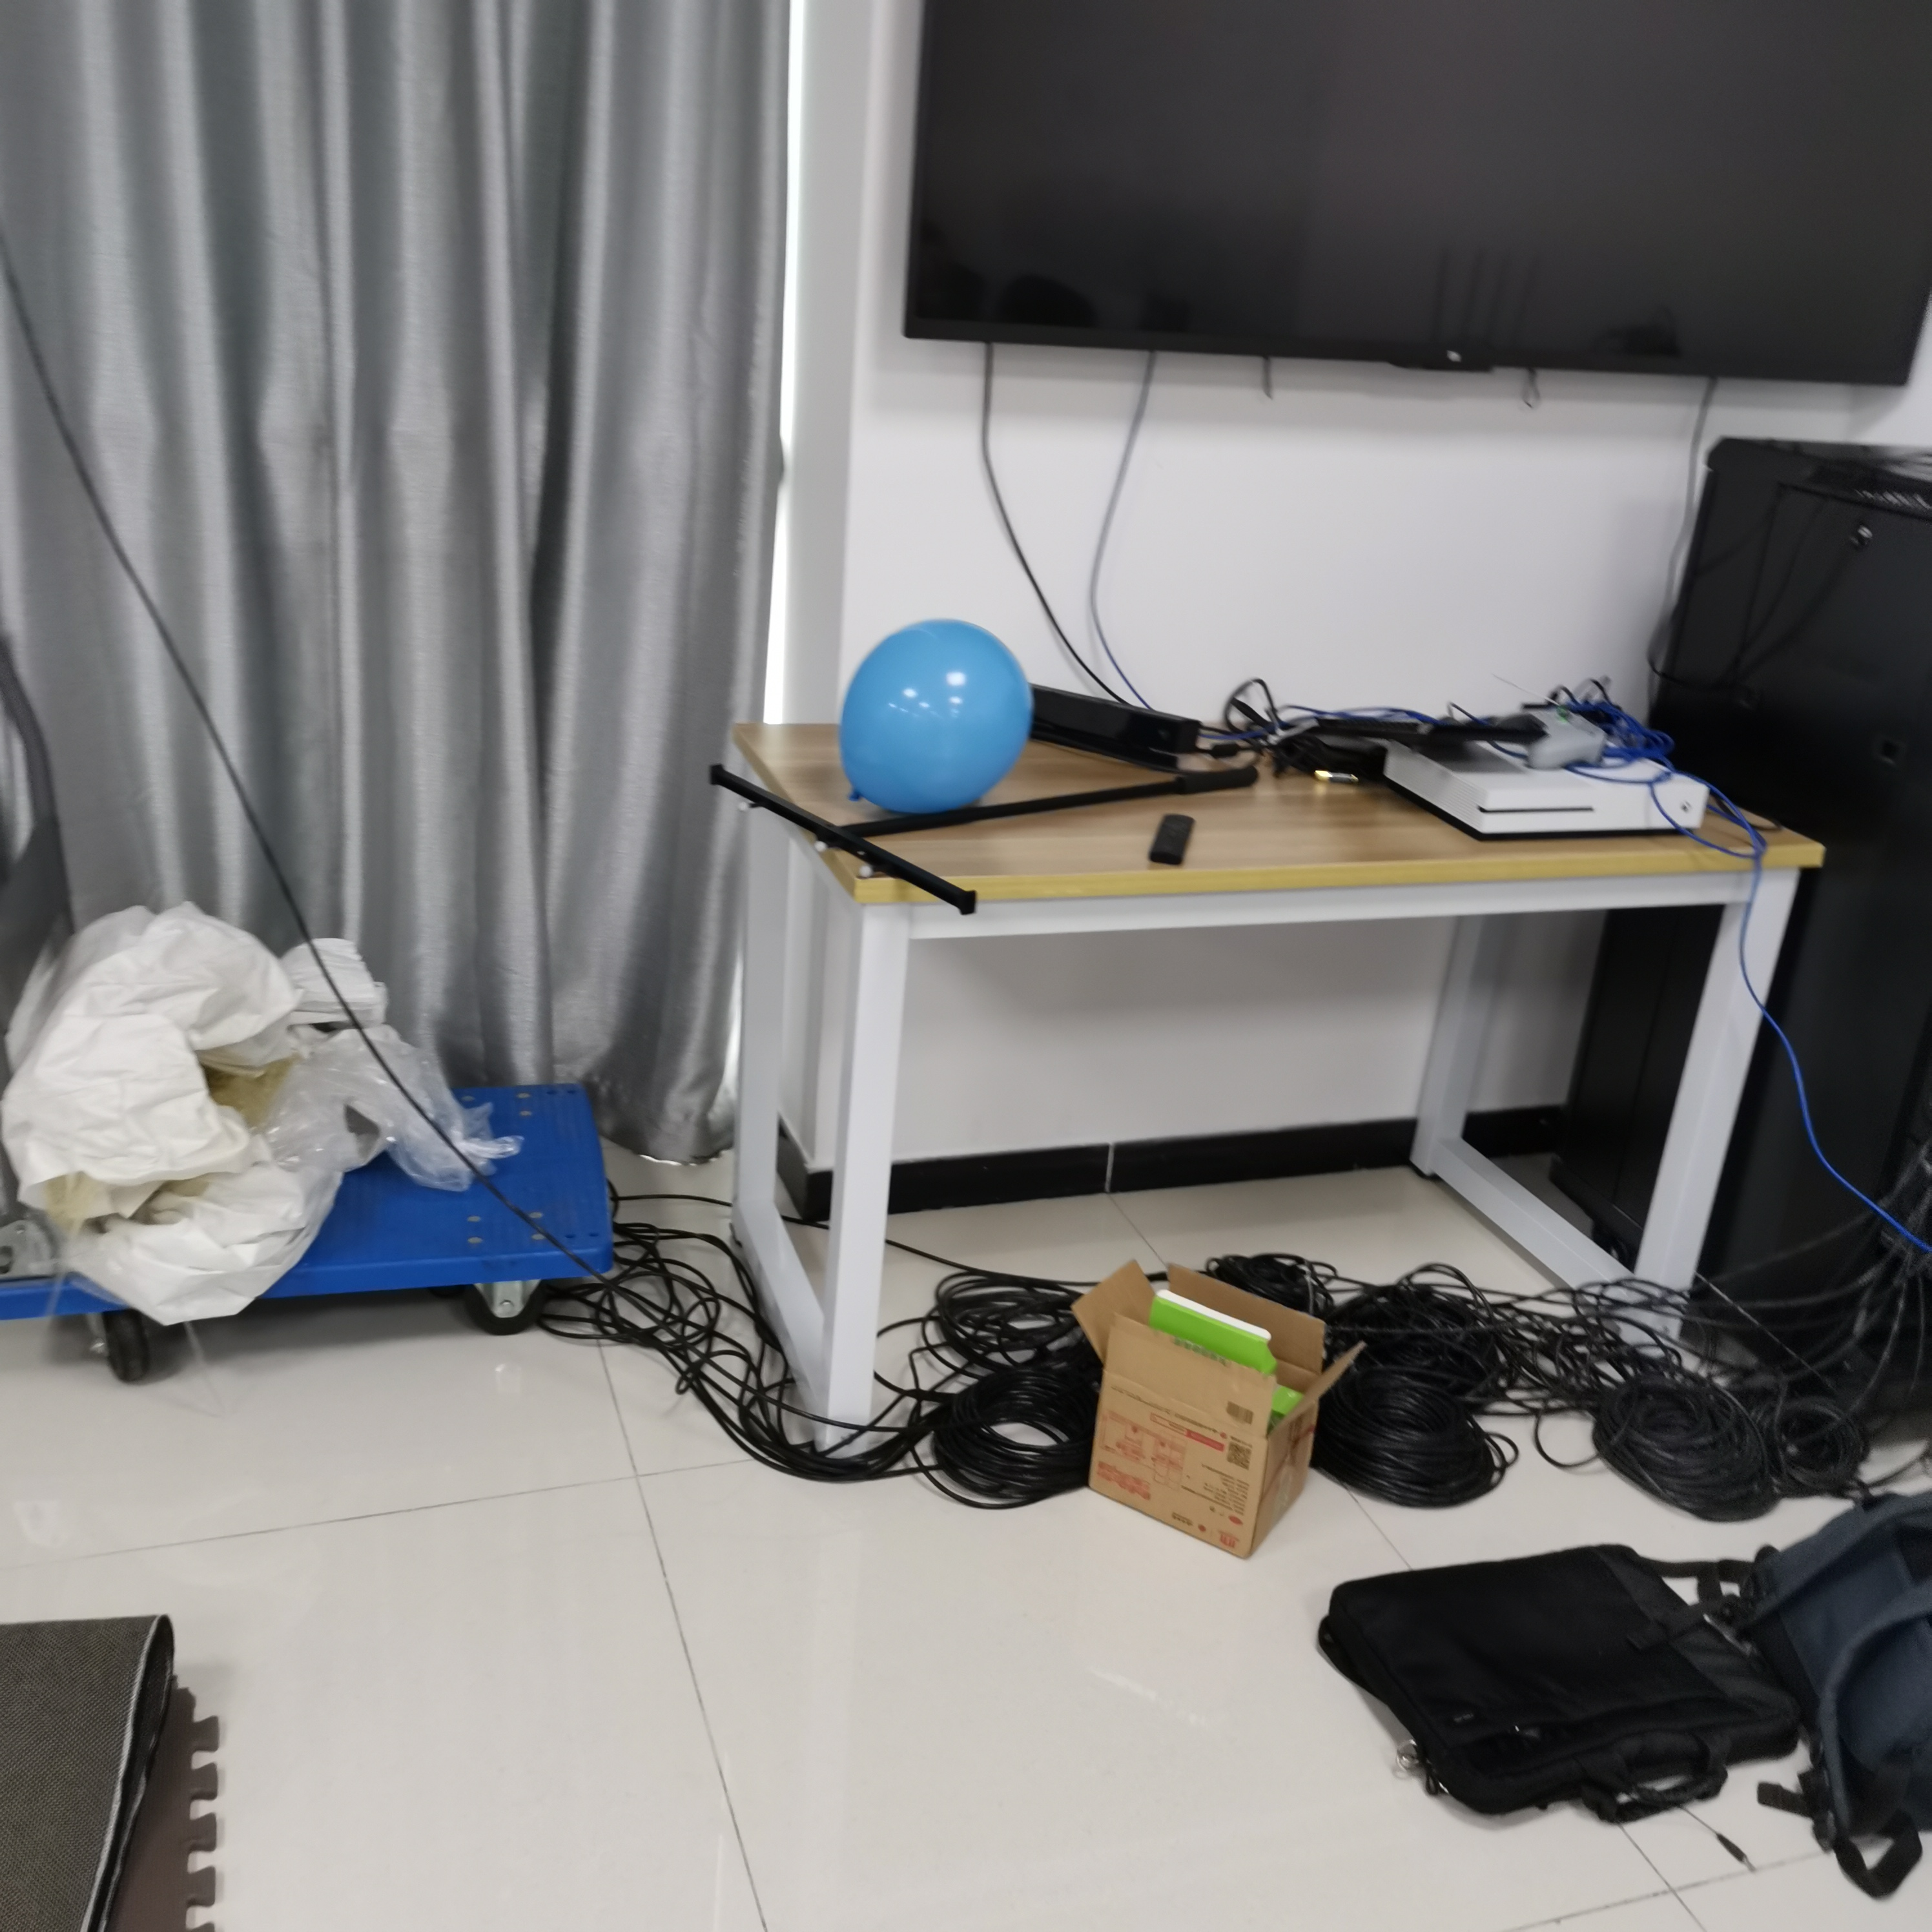balloon: (837, 619, 1035, 814)
